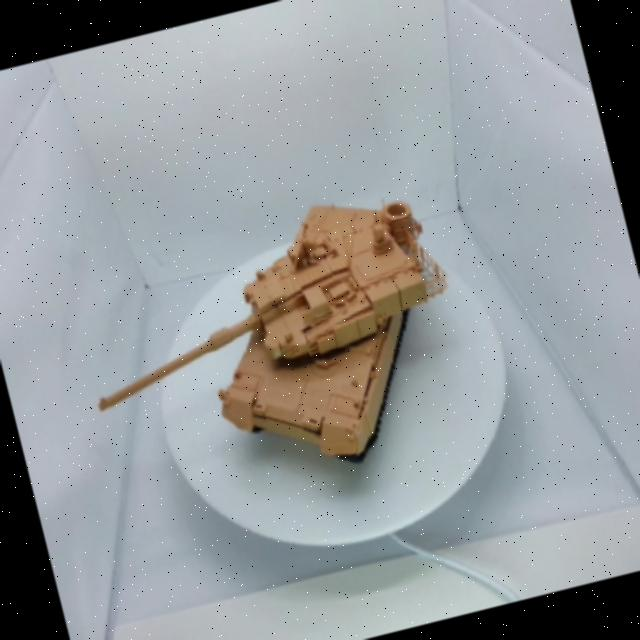korea tank: (47, 147, 503, 545)
